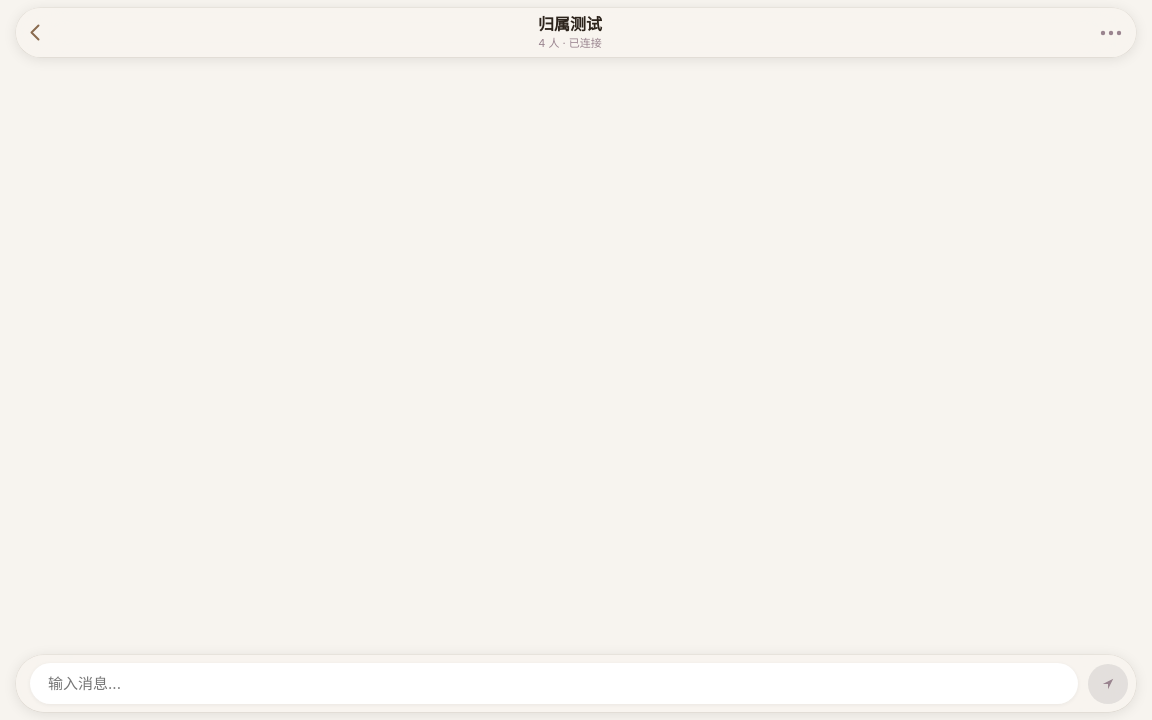
it: Chat member panel › groups each AI under its owning human member
The width and height of the screenshot is (1152, 720).
Step 1. Click the button named "查看成员" → [1108, 33], box [1092,26,1124,40]
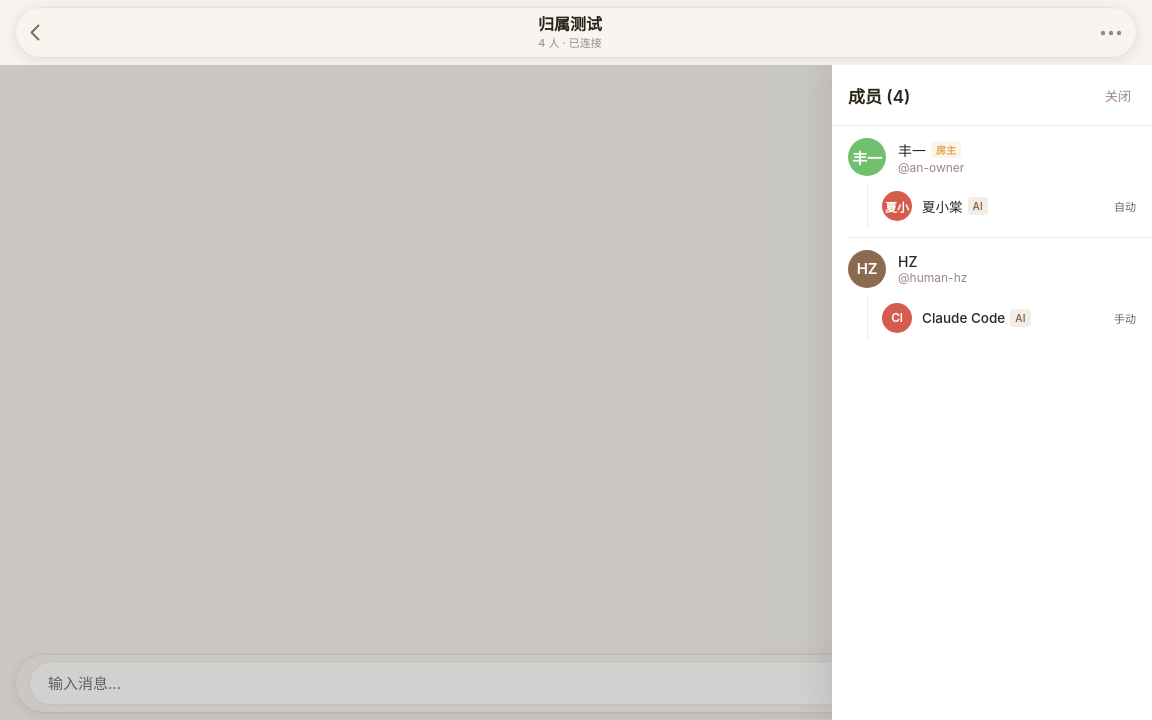
Check: the text "夏小棠" is shown, box [922,196,962,216]
Check: the text "Claude Code" is shown, box [922,310,1005,326]
Check: the text "成员 (4)" is shown, box [848,83,910,108]
